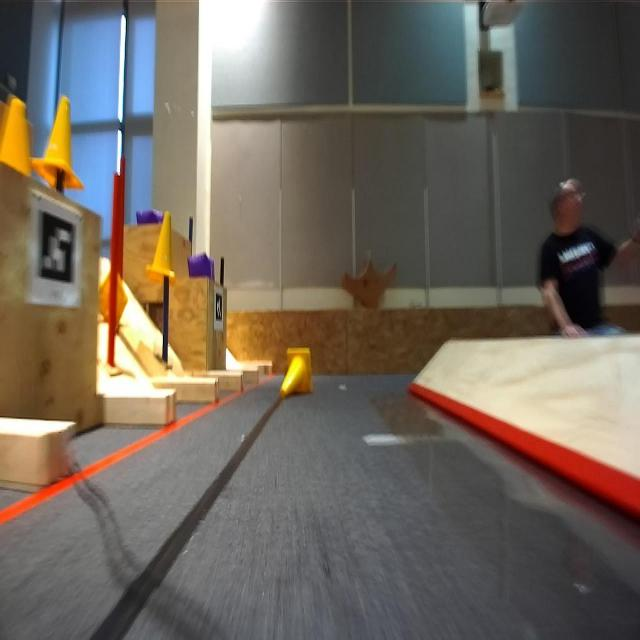frc_cone: (34, 94, 84, 196), (0, 93, 32, 179), (146, 211, 177, 277), (281, 348, 315, 398)
frc_cube: (189, 245, 216, 278), (137, 208, 163, 225)
